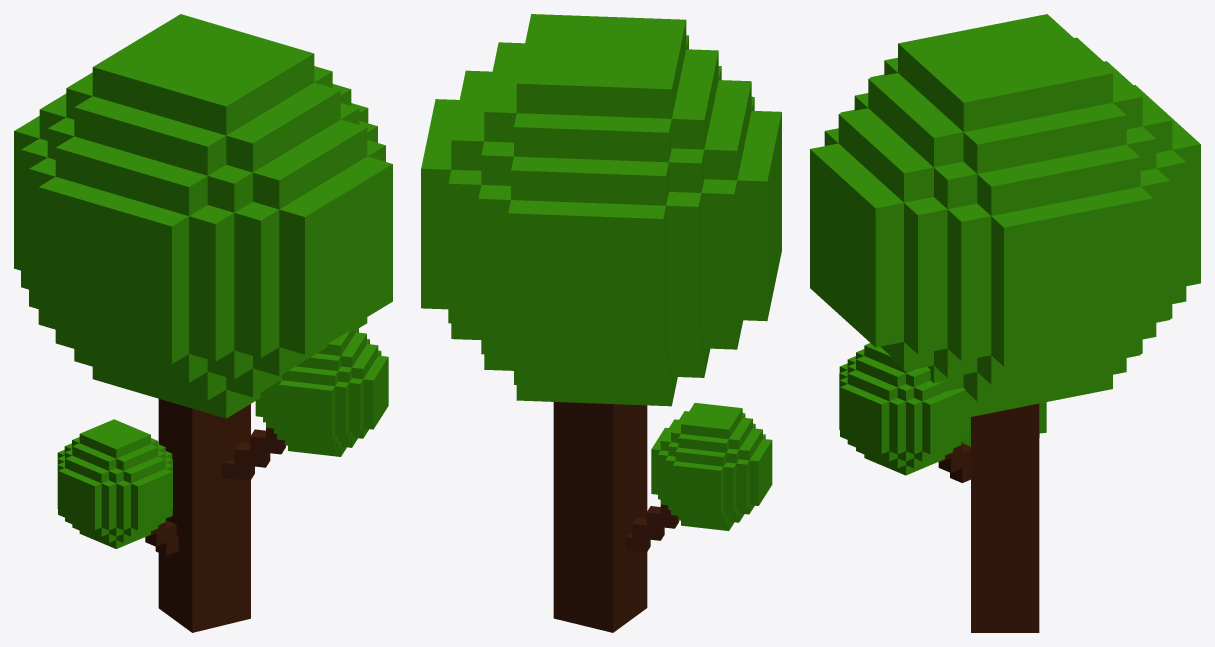
The model's file is Tree_001.FBX.
The picture shows the model from 3 angles, left to right: view 1: azimuth 30°, elevation 25°; view 2: azimuth 150°, elevation 25°; view 3: azimuth 270°, elevation 25°; orthographic projection.
Parts seen in each view (by area): view 1: train_main_part_004, Box048, train_main_part_007, train_main_part_008, Box051, Box050; view 2: train_main_part_004, Box048, train_main_part_007, Box050; view 3: train_main_part_004, Box048, train_main_part_008, Box051.
Part boxes in pixels (x1,y1,x2,y2): train_main_part_004: [14, 14, 392, 418]; Box048: [158, 399, 250, 632]; train_main_part_007: [57, 419, 172, 548]; train_main_part_008: [255, 328, 388, 456]; Box051: [222, 428, 285, 480]; Box050: [145, 519, 178, 555]; train_main_part_004: [421, 14, 781, 406]; Box048: [553, 402, 647, 632]; train_main_part_007: [651, 403, 772, 530]; Box050: [625, 504, 678, 552]; train_main_part_004: [810, 14, 1200, 417]; Box048: [971, 403, 1039, 632]; train_main_part_008: [839, 343, 969, 475]; Box051: [938, 441, 970, 482].
Bounding box in the file's own units: 52.12 × 83.95 × 53.14.
